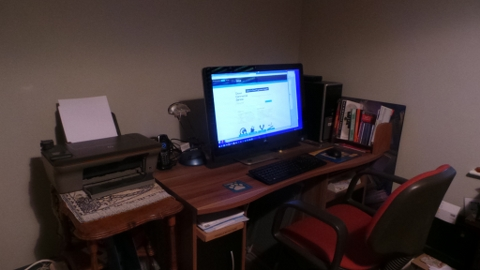kursi: (272, 165, 457, 270)
pc: (202, 63, 305, 164)
